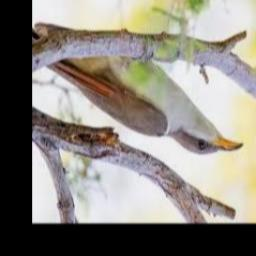Cuckoo: (44, 46, 243, 154)
